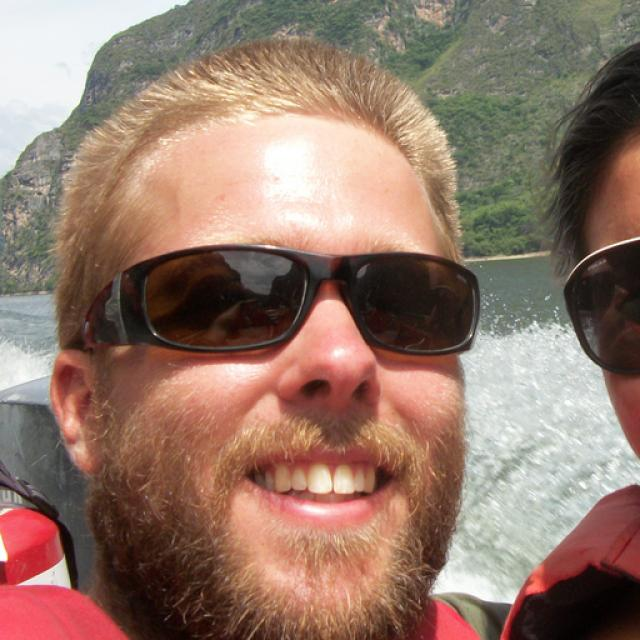Acne: (262, 160, 294, 198)
